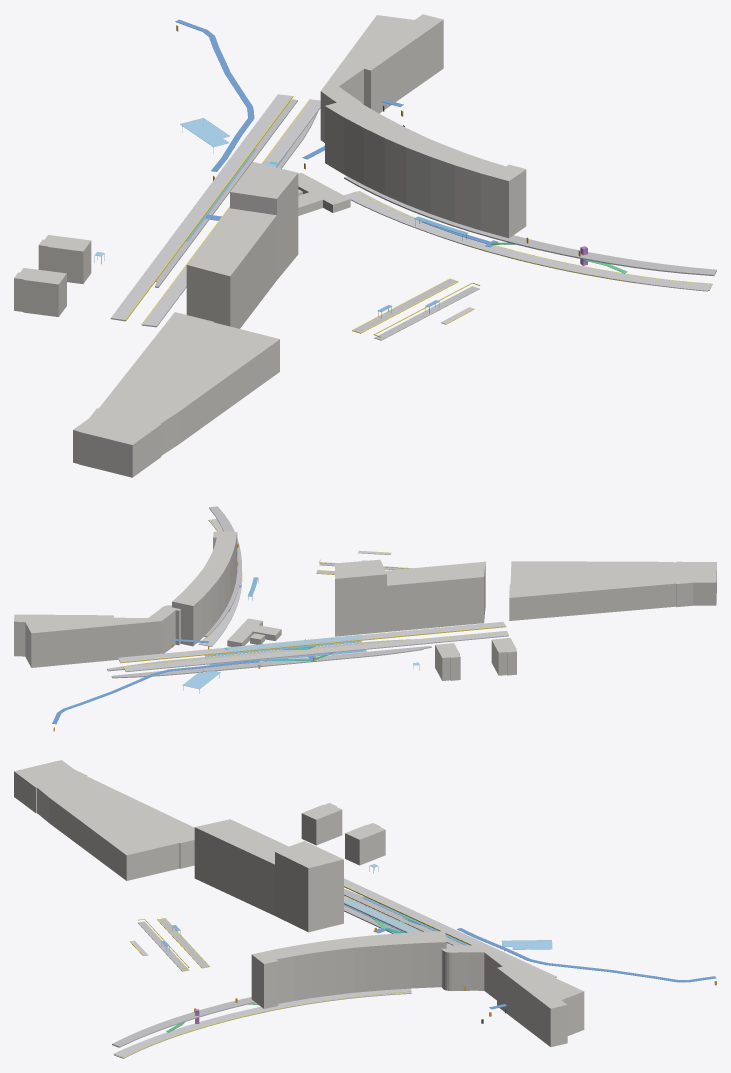
File: 8504108-bern-europaplatz.glb
3 renders of one model, top to bottom at view 1: azimuth 30°, elevation 25°; view 2: azimuth 150°, elevation 25°; view 3: azimuth 270°, elevation 25°, orthographic. The views are drawn at different scales.
Parts seen in each view (by area): view 1: building_part@x, platform_surface@0, platform_body@1, platform_body@-1, passage@1, boarding_edge@1, canopy@0; view 2: building_part@x, platform_body@1, platform_surface@0, boarding_edge@1, passage@1, shelter@0, roof@0, platform_body@-1, canopy@0; view 3: building_part@x, platform_surface@0, platform_body@-1, platform_body@1, passage@1, roof@0, canopy@0, shelter@0.
Boxes of the visible parts, x1,y1,x2,y2 form: building_part@x: (14, 14, 526, 477); platform_surface@0: (155, 99, 716, 340); platform_body@1: (110, 94, 320, 327); platform_body@-1: (344, 191, 712, 291); passage@1: (175, 19, 403, 171); boarding_edge@1: (125, 96, 309, 325); canopy@0: (94, 118, 234, 264); building_part@x: (14, 531, 716, 680); platform_body@1: (118, 621, 508, 672); platform_surface@0: (107, 506, 431, 678); boarding_edge@1: (120, 626, 506, 666); passage@1: (52, 639, 259, 724); shelter@0: (204, 560, 366, 664); roof@0: (225, 635, 361, 651); platform_body@-1: (198, 518, 242, 646); canopy@0: (182, 662, 419, 693); building_part@x: (14, 760, 584, 1046); platform_surface@0: (112, 888, 464, 1047); platform_body@-1: (113, 988, 411, 1058); platform_body@1: (344, 878, 556, 977); passage@1: (457, 928, 716, 1009); roof@0: (344, 899, 451, 945); canopy@0: (369, 864, 552, 951); shelter@0: (161, 897, 469, 951).
Size of the model in its own units: 306 by 41.95 by 347.
